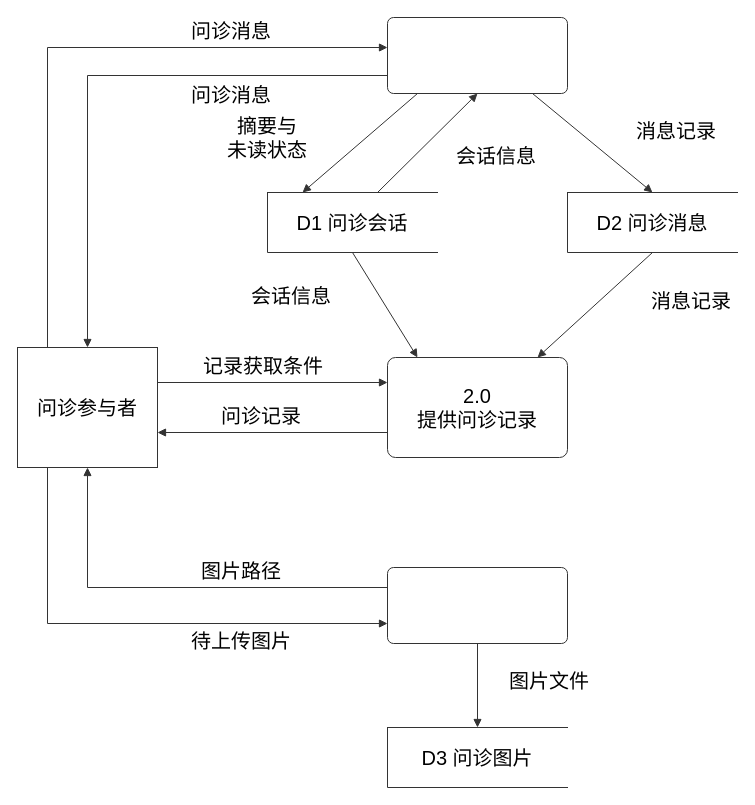
This 755x805 diagram has some shape labels left out. Here are the shapes that lost their labels. From the top down, the centre of each, then its label:
At (x=477, y=55): "1.0 处理问诊消息".
At (x=477, y=605): "3.0 保存问诊图片".
